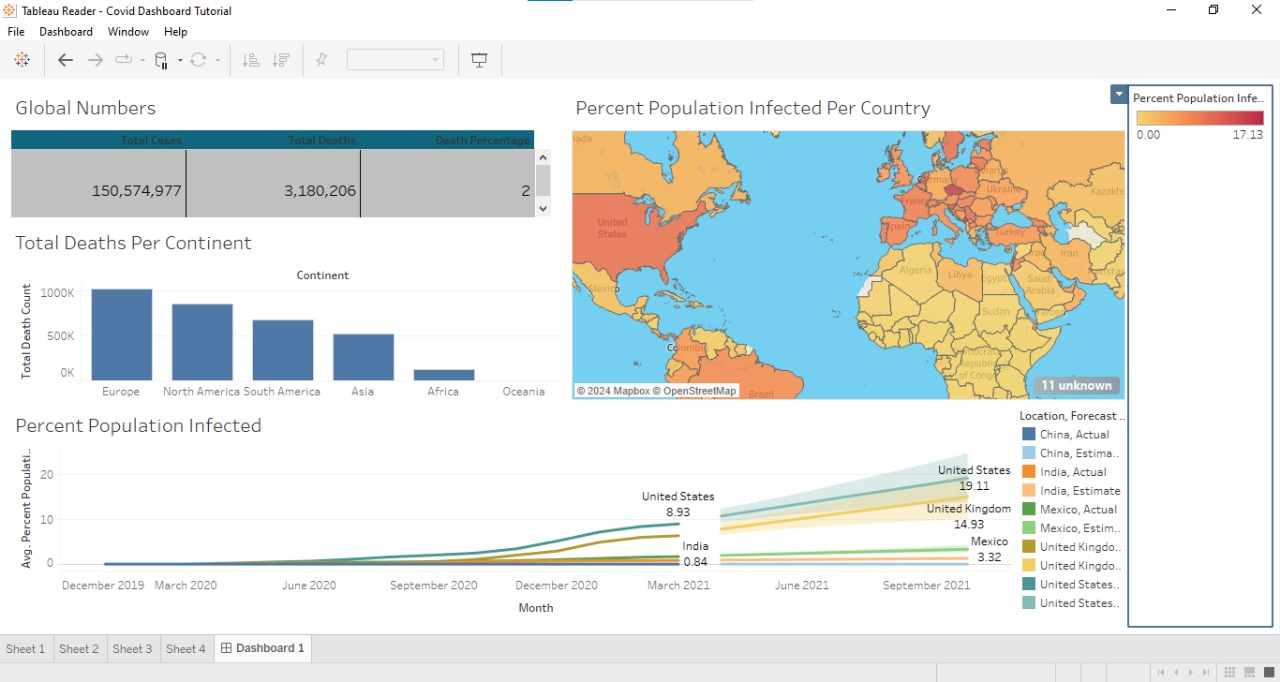

Layout of this report page (visuals, bound fields, positions):
{"tool":"tableau","page":{"name":"Dashboard 1","canvas":[1000,1000],"units":"permille","ordinal":0},"visuals":[{"type":"worksheet","title":"Sheet 1","mark":"Automatic","box":[4.8,9.3,449.3,245.3]},{"type":"worksheet","title":"Sheet 3","mark":"Automatic","box":[454.1,9.3,449.3,578.4]},{"type":"legend","title":"Sheet 3","param":"[federated.1u6pgzk0rhh873144wigi0cf6ax3].[sum:PercentPopulationInfected:qk]","box":[903.4,9.3,91.7,84.8]},{"type":"worksheet","title":"Sheet 2","mark":"Automatic","rows":["TotalDeathCount"],"cols":["location"],"box":[4.8,254.6,449.3,333.1]},{"type":"worksheet","title":"Sheet 4","mark":"Automatic","rows":["PercentPopulationInfected"],"cols":["date"],"box":[4.8,587.7,808,403]},{"type":"legend","title":"Sheet 4","param":"[federated.0fv2uox0hbhi61182v4641vh426j].[none:Location:nk]\n[federated.0fv2uox0h","box":[812.8,587.7,90.6,403]}]}

Visuals, with their boxes on the dashboard's canvas, which has no fixed pixel size, in thousandths of its width and height (x1, y1, x2, y2). These are canvas units, not pixel positions in the 1280x682 screenshot, which may show the page scaled, cropped or inside an application window:
"Sheet 1" worksheet: <bbox>5, 9, 454, 255</bbox>
"Sheet 3" worksheet: <bbox>454, 9, 903, 588</bbox>
"Sheet 3" legend: <bbox>903, 9, 995, 94</bbox>
"Sheet 2" worksheet: <bbox>5, 255, 454, 588</bbox>
"Sheet 4" worksheet: <bbox>5, 588, 813, 991</bbox>
"Sheet 4" legend: <bbox>813, 588, 903, 991</bbox>
